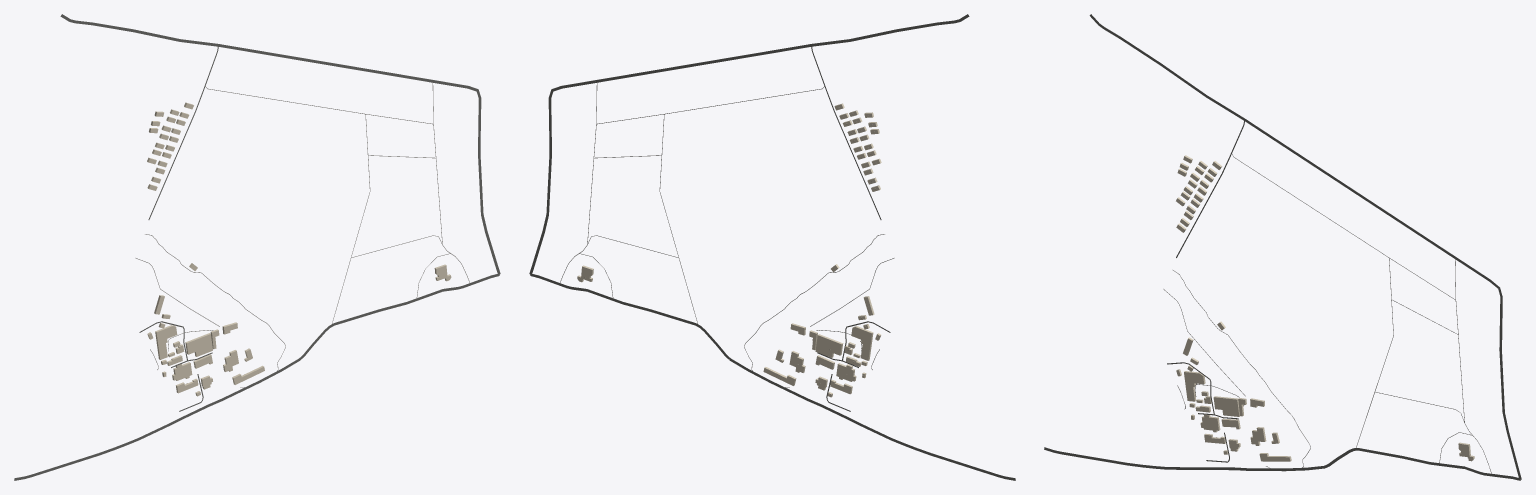
The model's file is historic-palestine-07_24_3486_3188.glb.
The picture shows the model from 3 angles, left to right: view 1: azimuth 30°, elevation 25°; view 2: azimuth 150°, elevation 25°; view 3: azimuth 330°, elevation 25°; orthographic projection.
Parts seen in each view (by area): view 1: Road 4304.001, Road 4304; view 2: Road 4304.001, Road 4304; view 3: Road 4304.001, Road 4304.
Boxes of the visible parts, x1,y1,x2,y2 form: Road 4304.001: (60, 14, 500, 274); Road 4304: (14, 274, 499, 480); Road 4304.001: (529, 14, 969, 274); Road 4304: (530, 273, 1015, 480); Road 4304.001: (1089, 14, 1521, 479); Road 4304: (1044, 447, 1520, 480).
Bounding box in the file's own units: 1504 × 1347 × 8.7.
